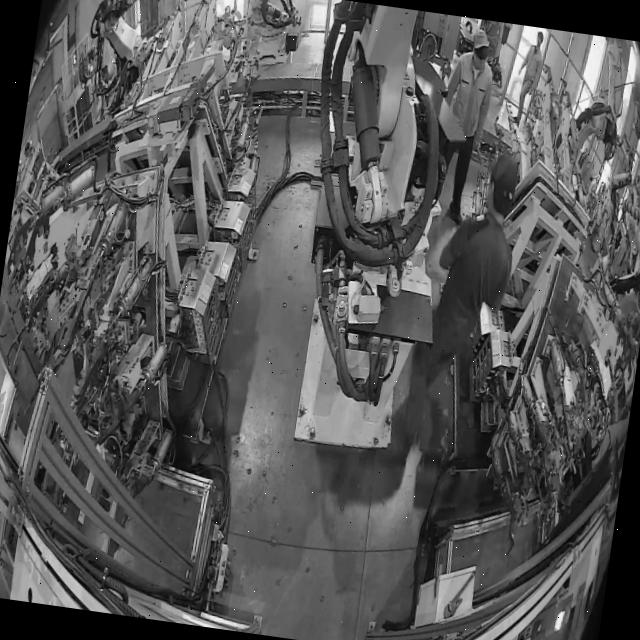Person: (398, 145, 528, 473), (428, 25, 501, 227), (511, 30, 548, 130)
